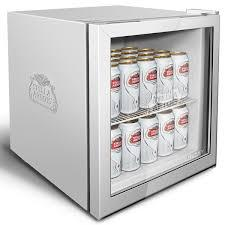beer: (110, 47, 192, 180)
